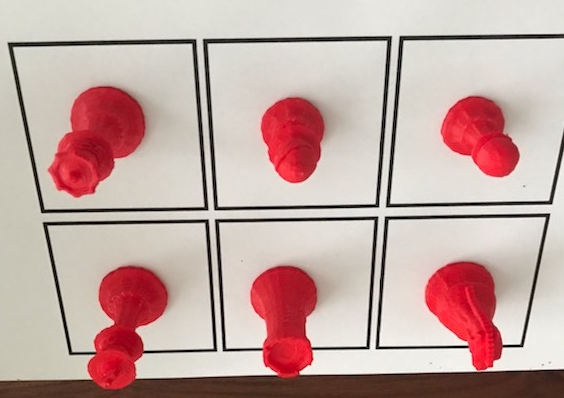Red Bishop: (253, 91, 330, 187)
Red Castle: (244, 261, 331, 381)
Red King: (77, 260, 173, 391)
Red Knight: (418, 255, 521, 377)
Red Pawn: (433, 88, 525, 182)
Red Queen: (40, 79, 150, 201)
